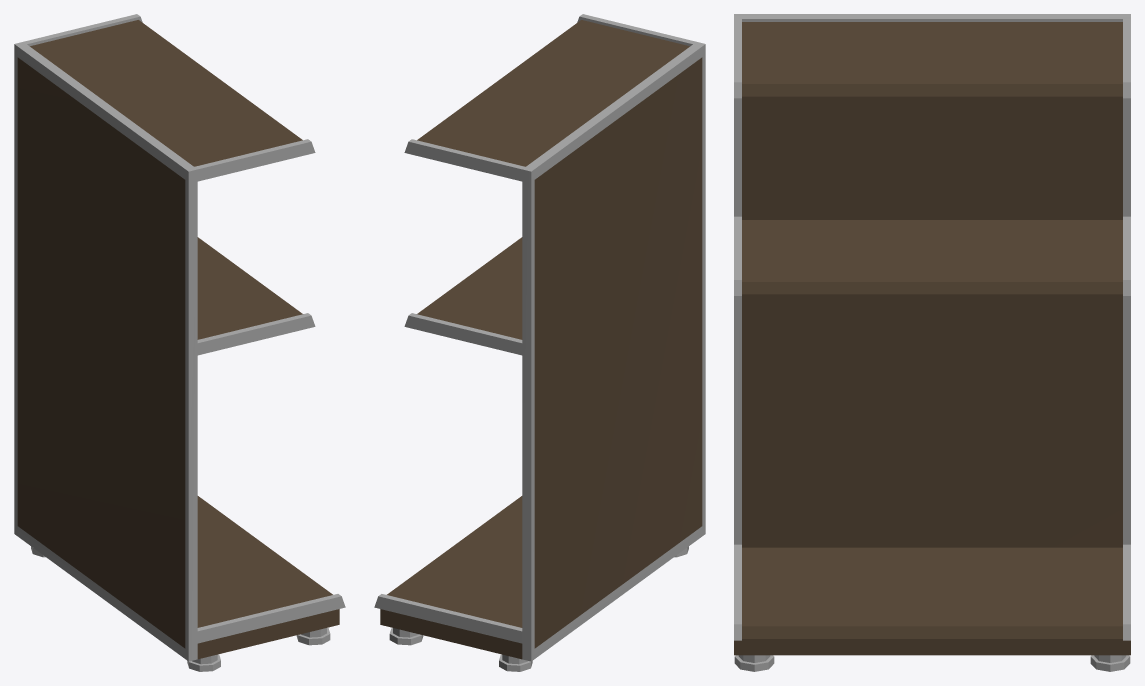
The model's file is SM_gunShopShelve_01.glb.
The picture shows the model from 3 angles, left to right: view 1: azimuth 30°, elevation 25°; view 2: azimuth 150°, elevation 25°; view 3: azimuth 270°, elevation 25°; orthographic projection. The views are drawn at different scales.
Visible parts, largest first — view 1: SM_gunShopShelve_01; view 2: SM_gunShopShelve_01; view 3: SM_gunShopShelve_01.
Boxes of the visible parts, bbox=[...] form: SM_gunShopShelve_01: bbox=[14, 14, 345, 671]; SM_gunShopShelve_01: bbox=[374, 14, 705, 671]; SM_gunShopShelve_01: bbox=[734, 14, 1130, 671].
Size of the model in its own units: 0.52 by 1.6 by 1.
Materials: 1 (1 with a texture image).
